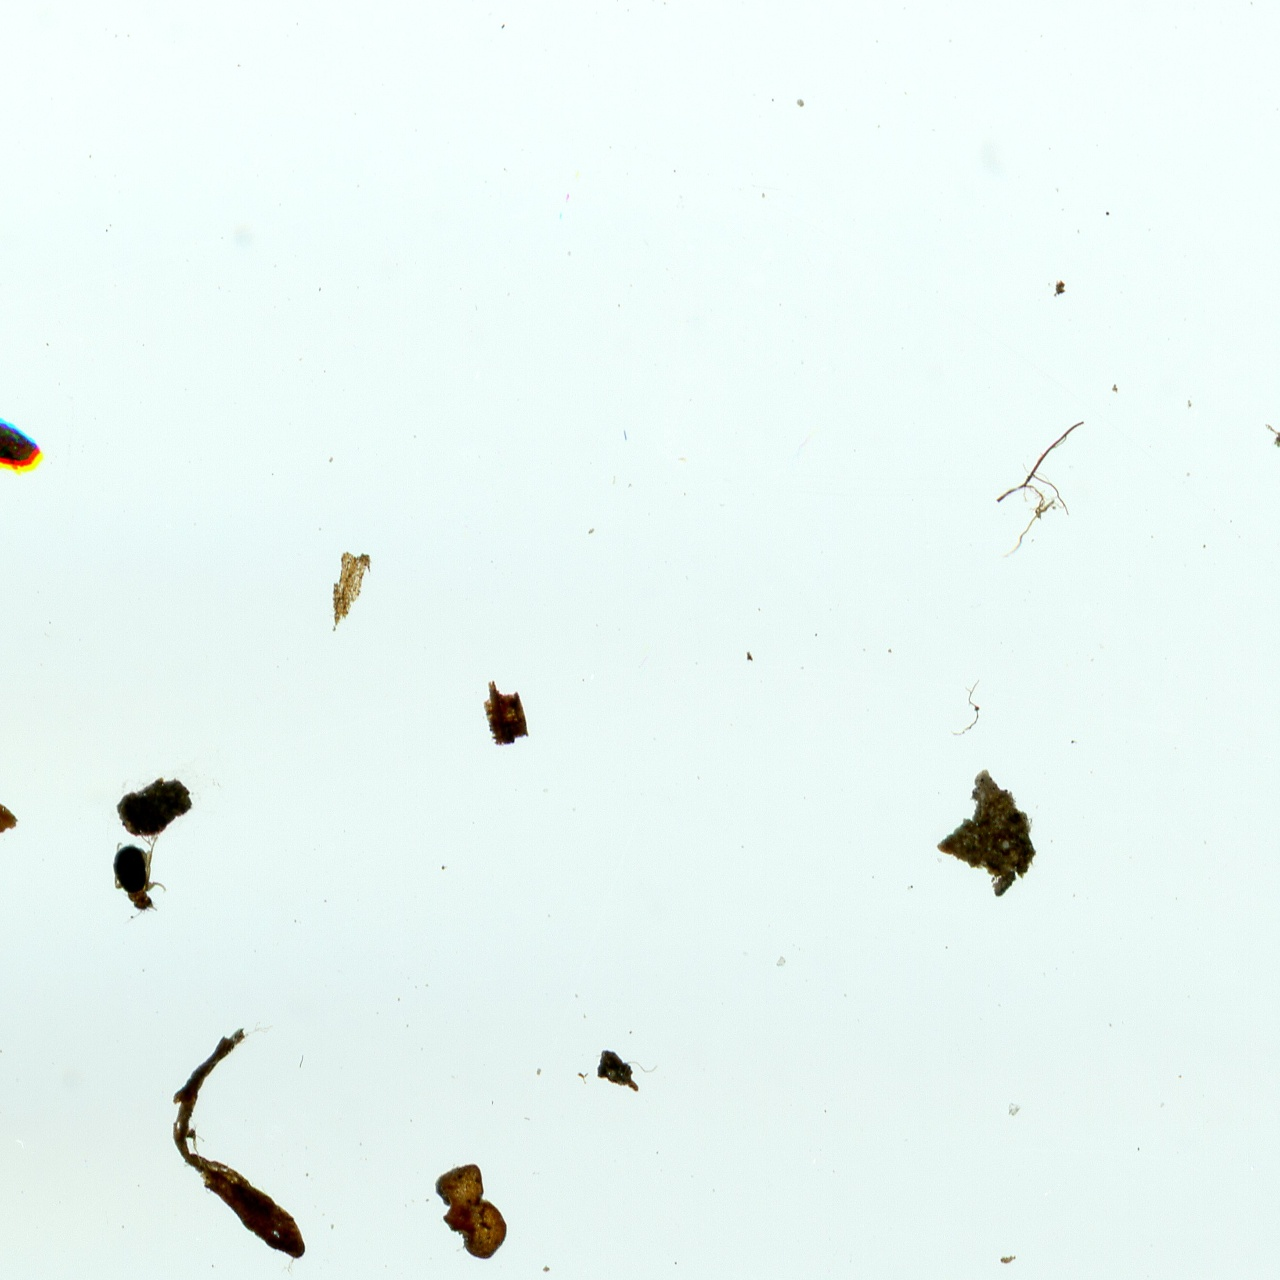arthropod: (109, 831, 171, 930)
